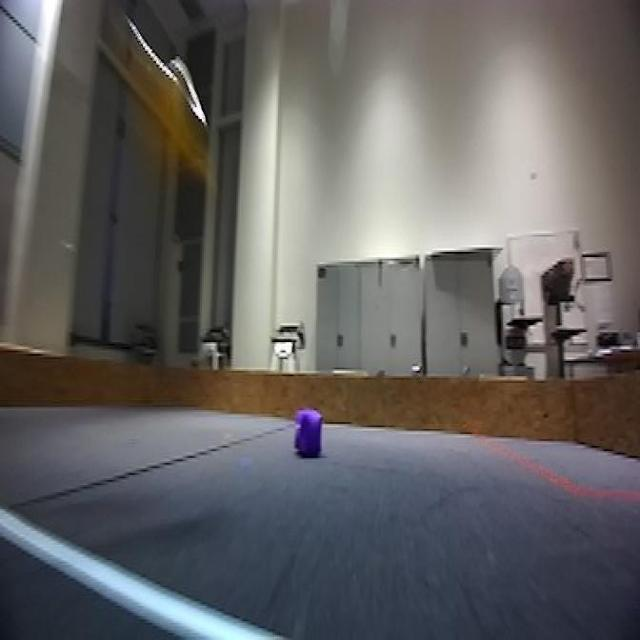frc_cone: (120, 62, 201, 164)
frc_cube: (292, 407, 326, 463)
